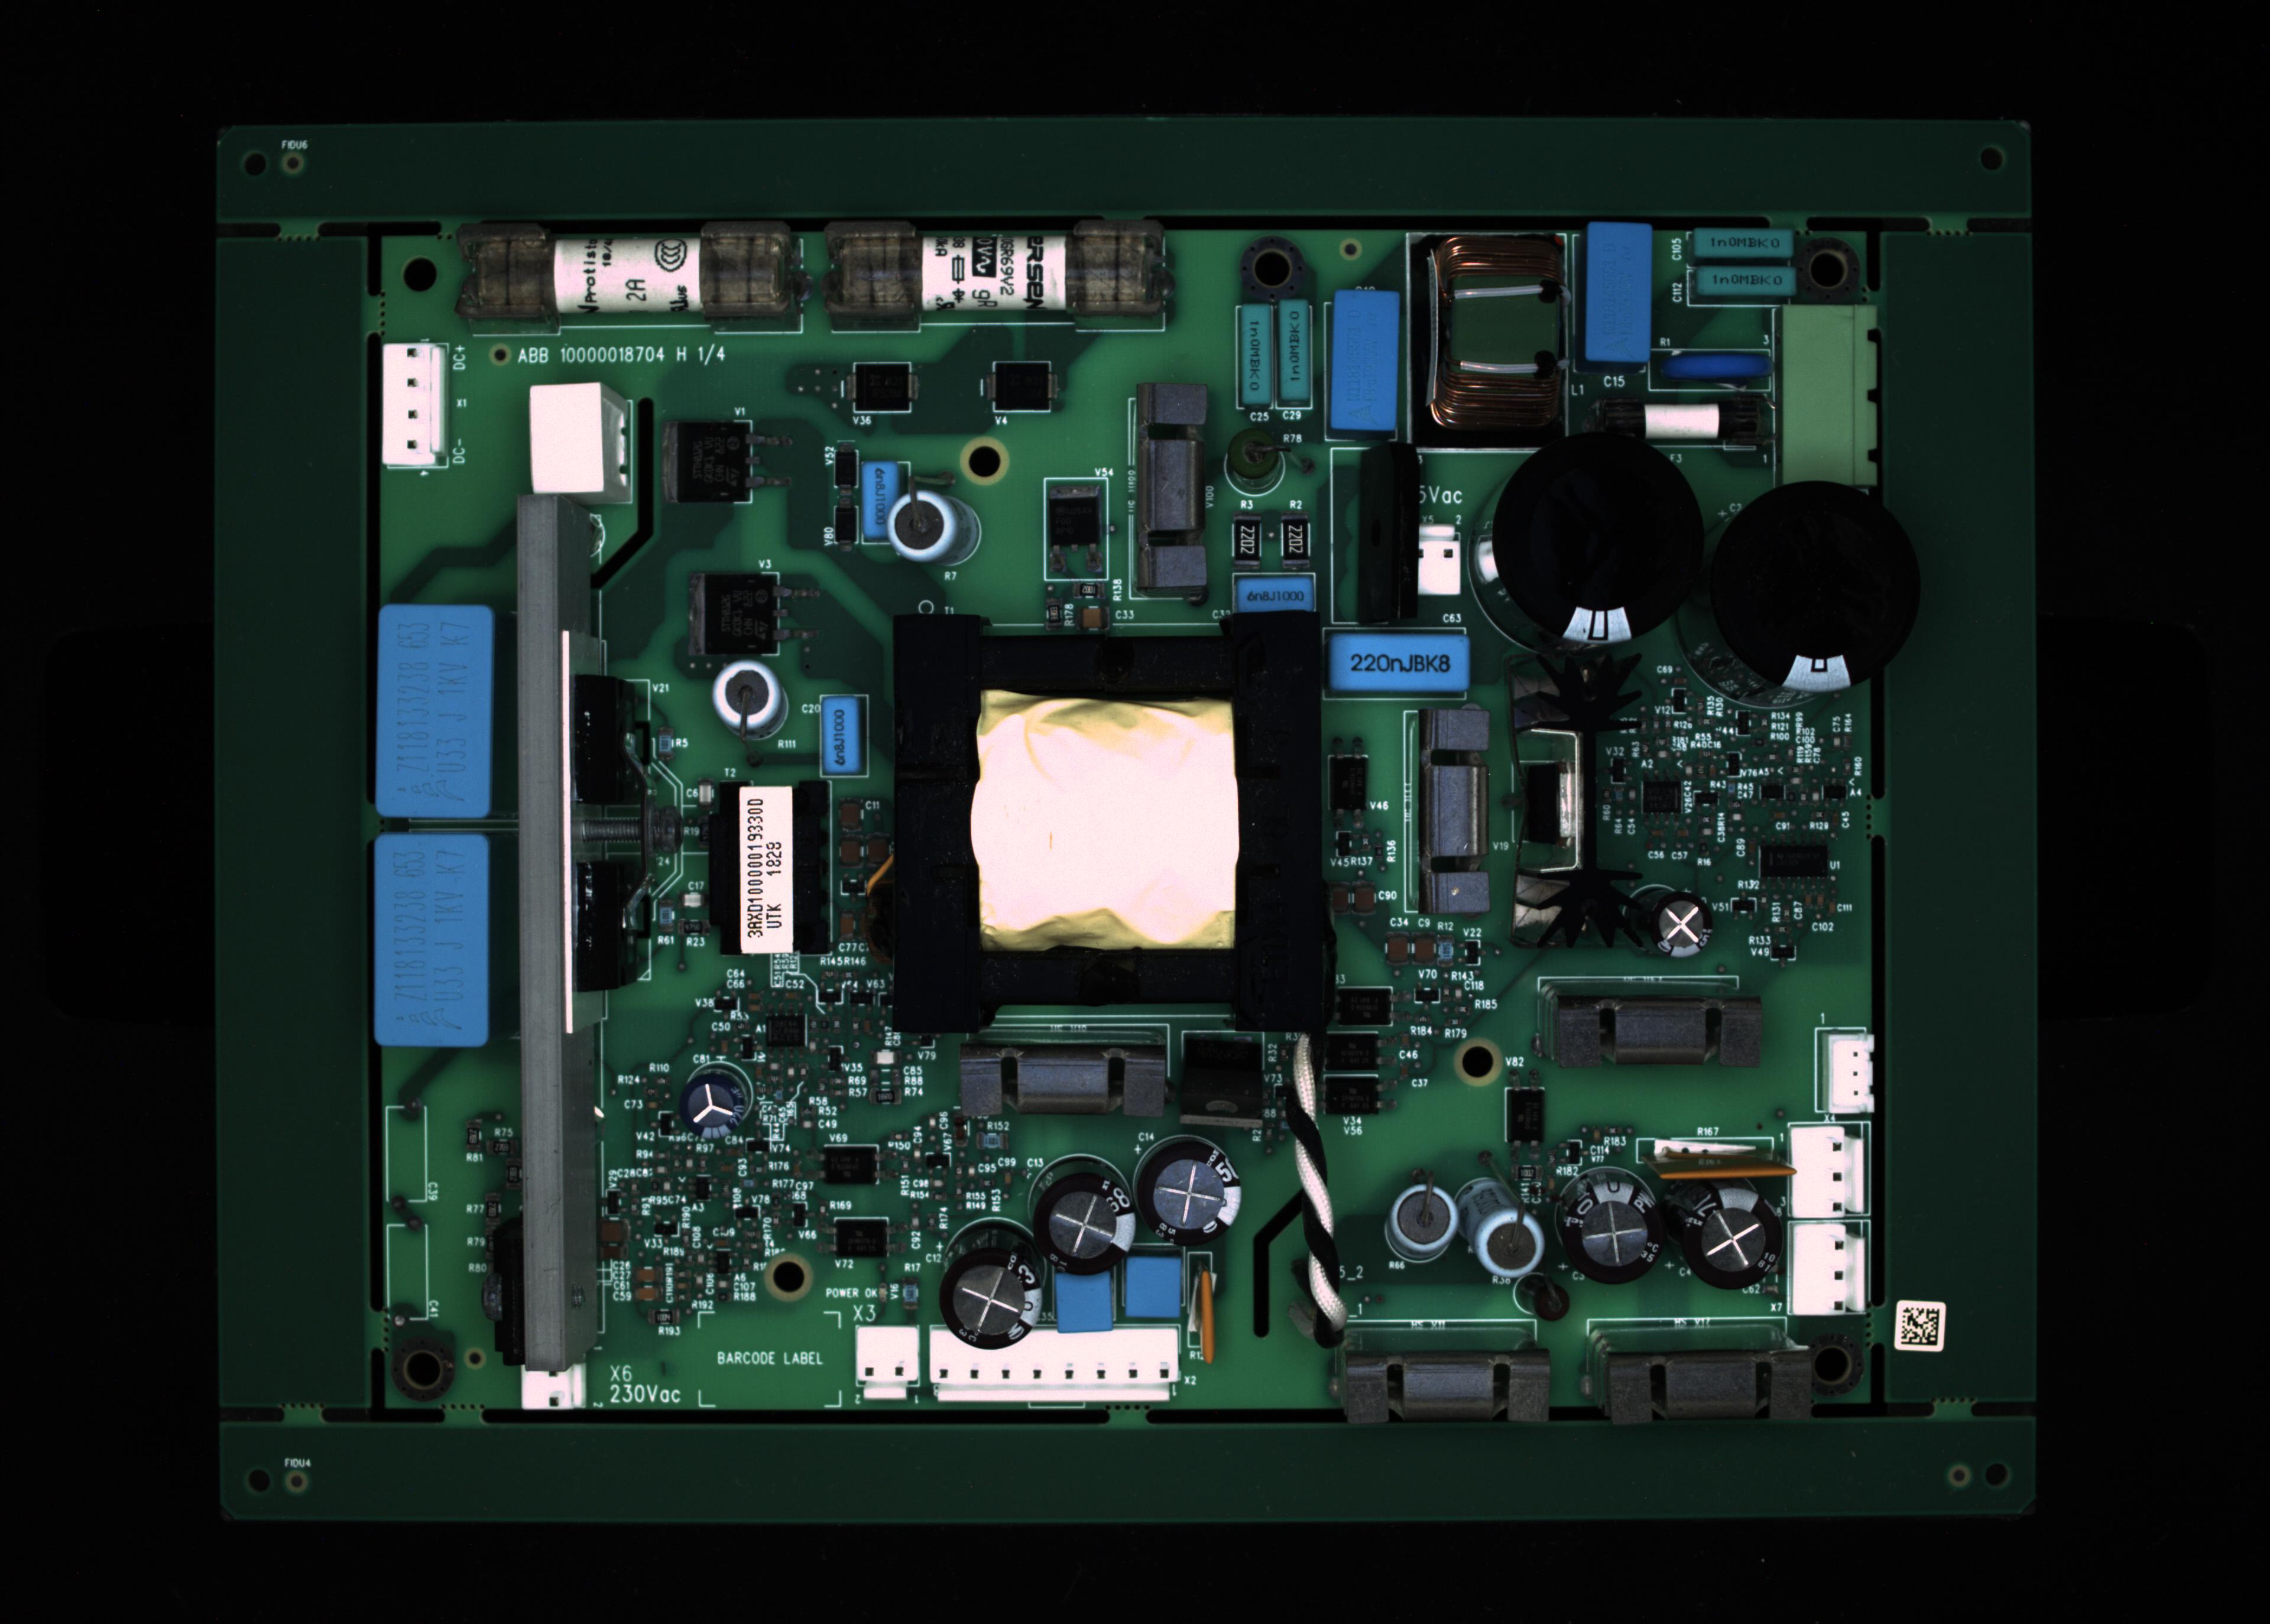10_p: (1648, 346, 1772, 394)
11_q: (1779, 297, 1885, 489)
12_r: (1591, 387, 1776, 455)
13_s: (383, 343, 443, 469)
14_t: (531, 387, 629, 503)
15_e: (862, 460, 897, 538)
16_k: (886, 485, 983, 568)
17_u: (1138, 385, 1206, 591)
18_v: (1233, 580, 1315, 615)
19_w: (1326, 634, 1468, 691)
1_a: (455, 216, 807, 322)
20_f: (1419, 526, 1458, 594)
21_g: (1491, 427, 1706, 647)
22_g: (1706, 478, 1918, 694)
23_h: (378, 606, 494, 812)
24_h: (375, 830, 484, 1046)
25_f: (524, 1367, 586, 1408)
26_f: (858, 1327, 920, 1399)
27_x: (932, 1327, 1176, 1401)
28_i: (1131, 1137, 1241, 1248)
29_i: (1030, 1171, 1134, 1280)
2_a: (818, 216, 1175, 322)
30_i: (934, 1244, 1044, 1348)
31_j: (1050, 1267, 1120, 1339)
32_j: (1115, 1237, 1197, 1329)
33_e: (819, 698, 858, 773)
34_k: (1382, 1181, 1458, 1264)
35_k: (1456, 1172, 1542, 1280)
36_i: (1553, 1174, 1670, 1280)
37_i: (1681, 1183, 1786, 1290)
38_l: (1331, 1350, 1553, 1424)
39_l: (1595, 1348, 1816, 1418)
3_b: (1241, 301, 1270, 406)
40_l: (1556, 993, 1771, 1069)
41_y: (1419, 707, 1493, 912)
42_z: (1827, 1035, 1873, 1113)
43_m: (1795, 1128, 1864, 1216)
44_m: (1792, 1222, 1866, 1311)
45_i: (677, 1069, 751, 1146)
46_n: (1338, 982, 1393, 1028)
47_n: (825, 1144, 879, 1181)
48_n: (835, 1214, 890, 1257)
49_aa: (763, 1000, 809, 1044)
4_b: (1282, 299, 1317, 399)
50_n: (1321, 1030, 1379, 1067)
51_n: (1321, 1077, 1379, 1116)
52_ab: (1329, 754, 1368, 812)
53_ac: (1656, 1130, 1790, 1165)
54_ad: (1194, 1265, 1219, 1364)
55_l: (962, 1044, 1166, 1116)
56_ae: (1178, 1030, 1264, 1128)
57_af: (1519, 647, 1646, 951)
58_i: (1649, 888, 1716, 958)
59_o: (993, 362, 1048, 410)
5_c: (1329, 286, 1400, 429)
60_o: (858, 360, 911, 415)
6_ag: (1428, 230, 1572, 429)
7_c: (1584, 220, 1648, 359)
8_d: (1686, 227, 1792, 260)
9_d: (1684, 262, 1793, 308)
